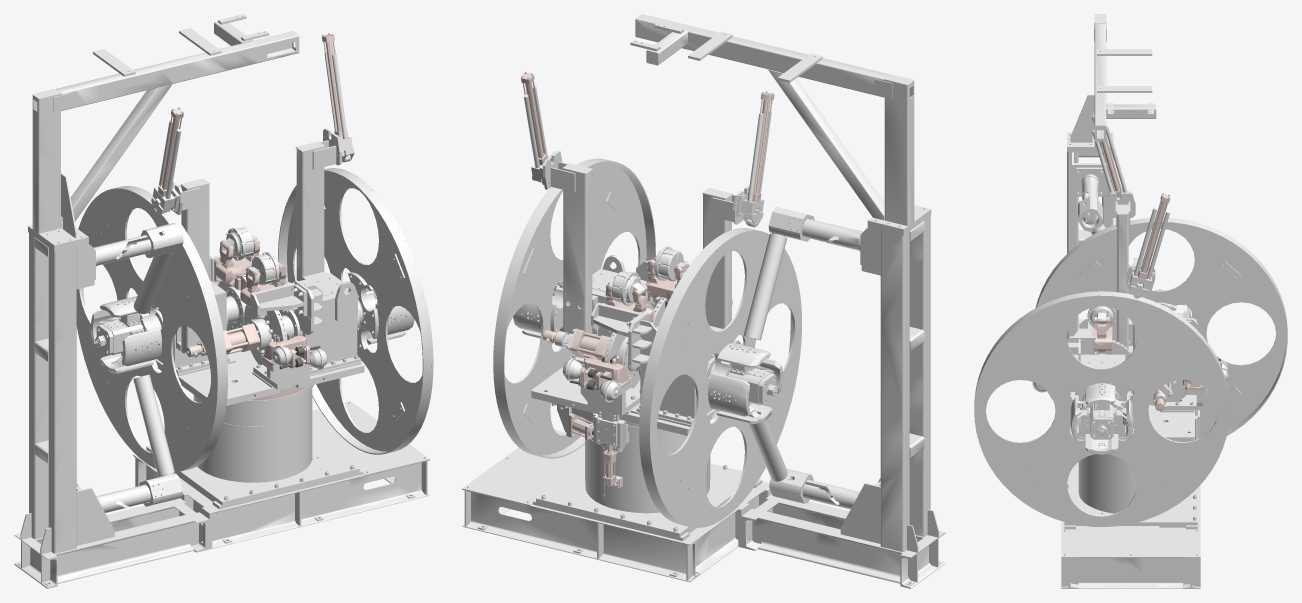
Rendered from uncoiler.glb.
3 views of the same model, side by side, from view 1: azimuth 30°, elevation 25°; view 2: azimuth 150°, elevation 25°; view 3: azimuth 270°, elevation 25° (orthographic). The views are drawn at different scales.
Visible parts, largest first — view 1: uncoiler; view 2: uncoiler; view 3: uncoiler.
Boxes of the visible parts, x1,y1,x2,y2 form: uncoiler: [14, 14, 433, 588]; uncoiler: [462, 14, 945, 588]; uncoiler: [974, 14, 1287, 588].
Size of the model in its own units: 3.36 by 3.97 by 2.7.
Materials: 1 (1 with a texture image).
